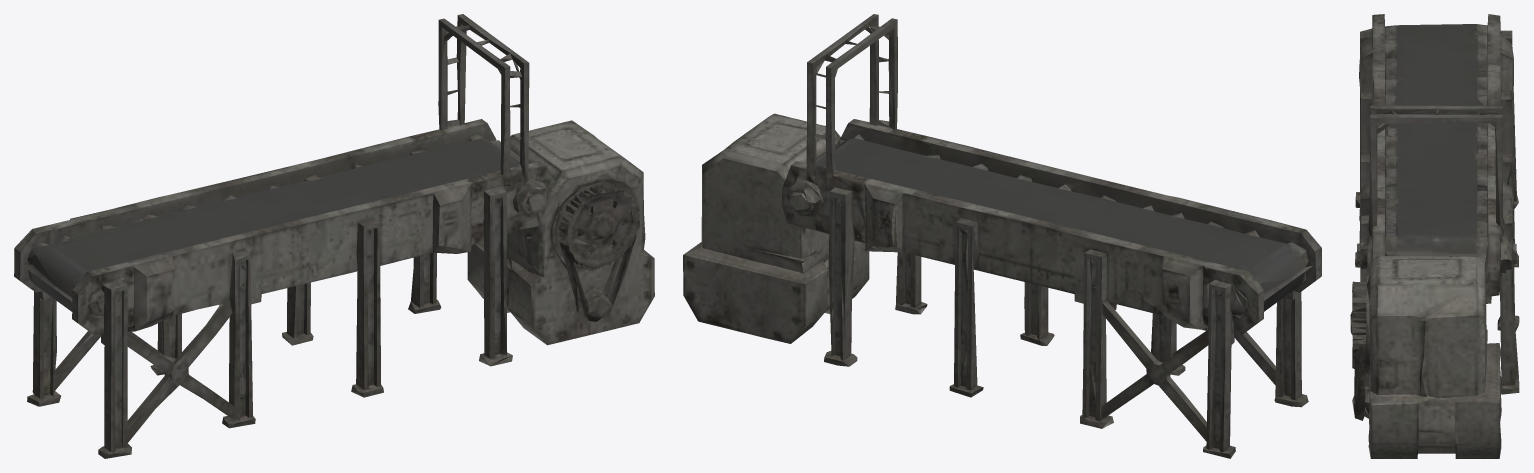
Rendered from struct.conveyor.drive.glb.
3 views of the same model, side by side, from view 1: azimuth 30°, elevation 25°; view 2: azimuth 150°, elevation 25°; view 3: azimuth 270°, elevation 25° (orthographic).
Parts seen in each view (by area): view 1: body; view 2: body; view 3: body.
Boxes of the visible parts, x1=… form: body: x1=14, y1=14, x2=654, y2=458; body: x1=683, y1=14, x2=1321, y2=458; body: x1=1350, y1=14, x2=1519, y2=458.
Size of the model in its own units: 1.4 by 0.6698 by 0.3559.
1 material, 1 textured.
